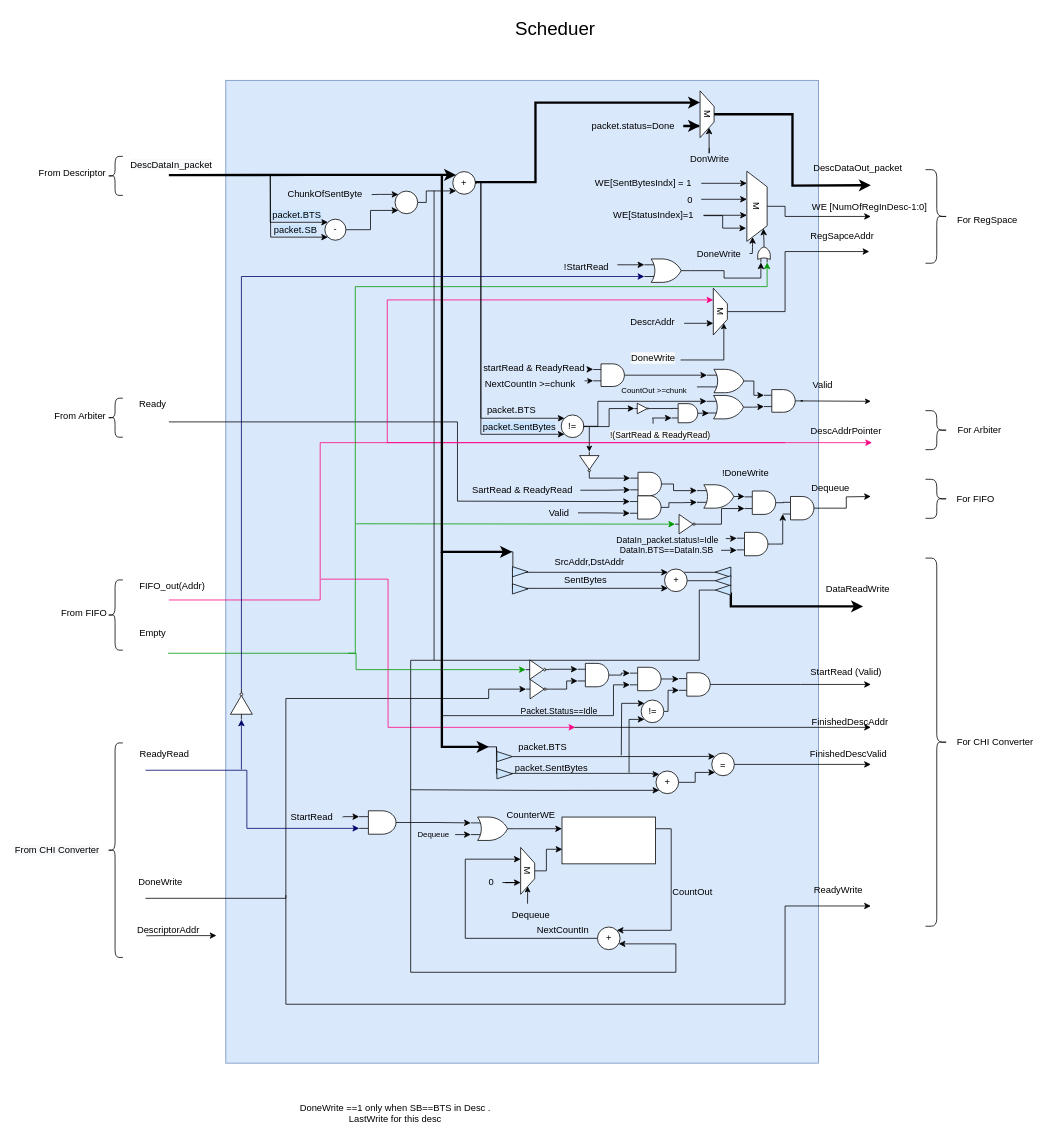
This 1055x1142 diagram has some shape labels left out. The centre of each missing label's shape, as x and y in pixels:
counterReg: (608,840)
min: (406,202)
